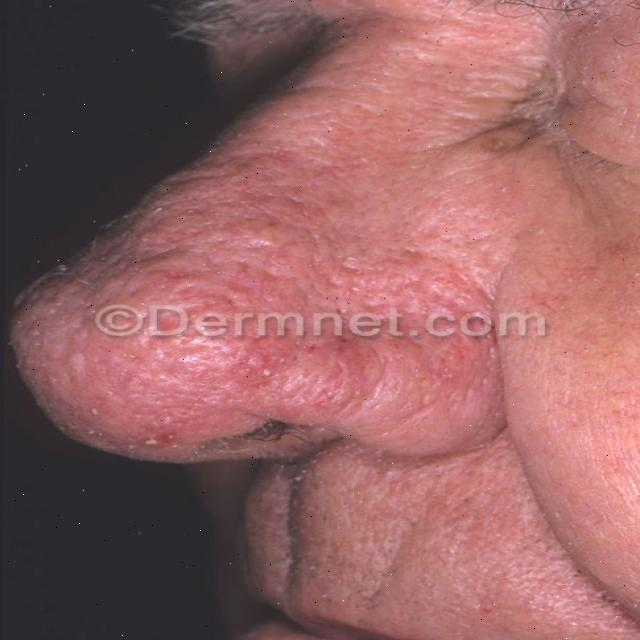images: (4, 0, 639, 639)
